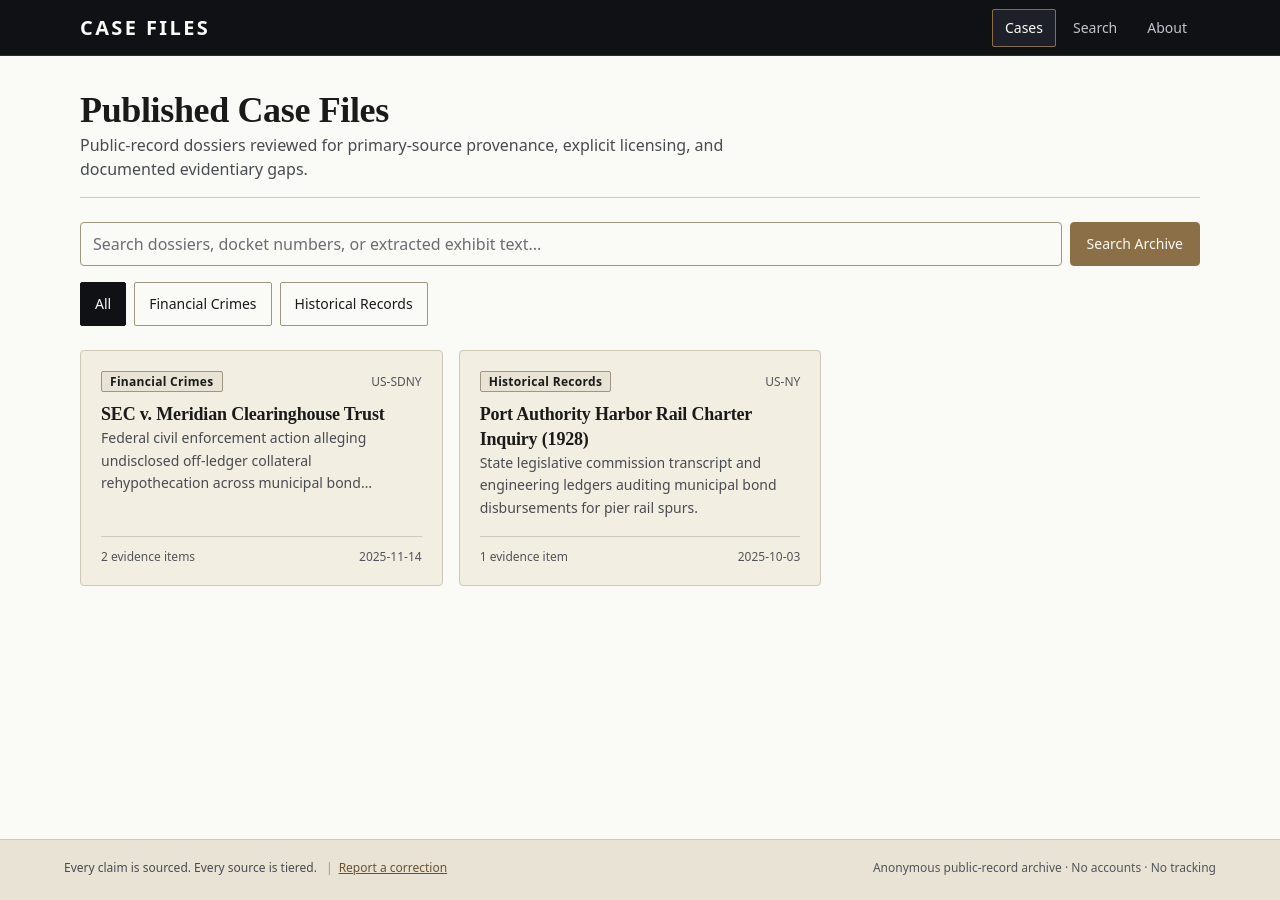
Reader routes › CaseList renders published cases, filters by category, handles empty state, and retries on error
This screenshot has width=1280, height=900.
Expected: the heading "SEC v. Meridian Clearinghouse Trust" is shown, [101,402,422,427]
Expected: the heading "Port Authority Harbor Rail Charter Inquiry (1928)" is shown, [480,404,752,449]
Note: Category filter
Click the button "Financial Crimes" at (203, 304), box [134,282,272,326]
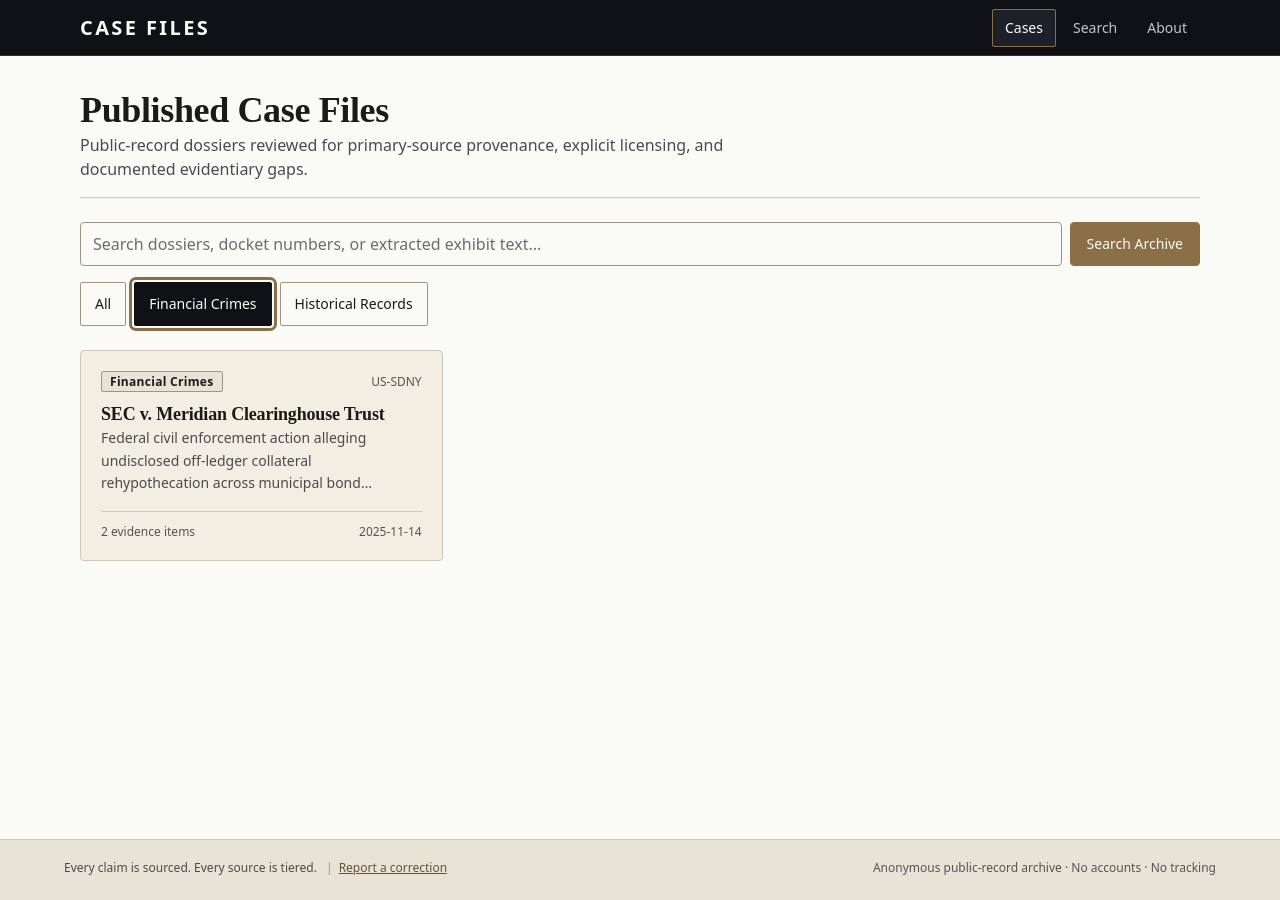
Expected: the heading "SEC v. Meridian Clearinghouse Trust" is shown, [101,402,422,427]
Expected: the link "Port Authority Harbor Rail Charter Inquiry (1928)" is gone
